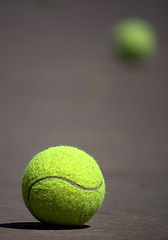tennis ball: (20, 144, 106, 226), (110, 17, 157, 65)
